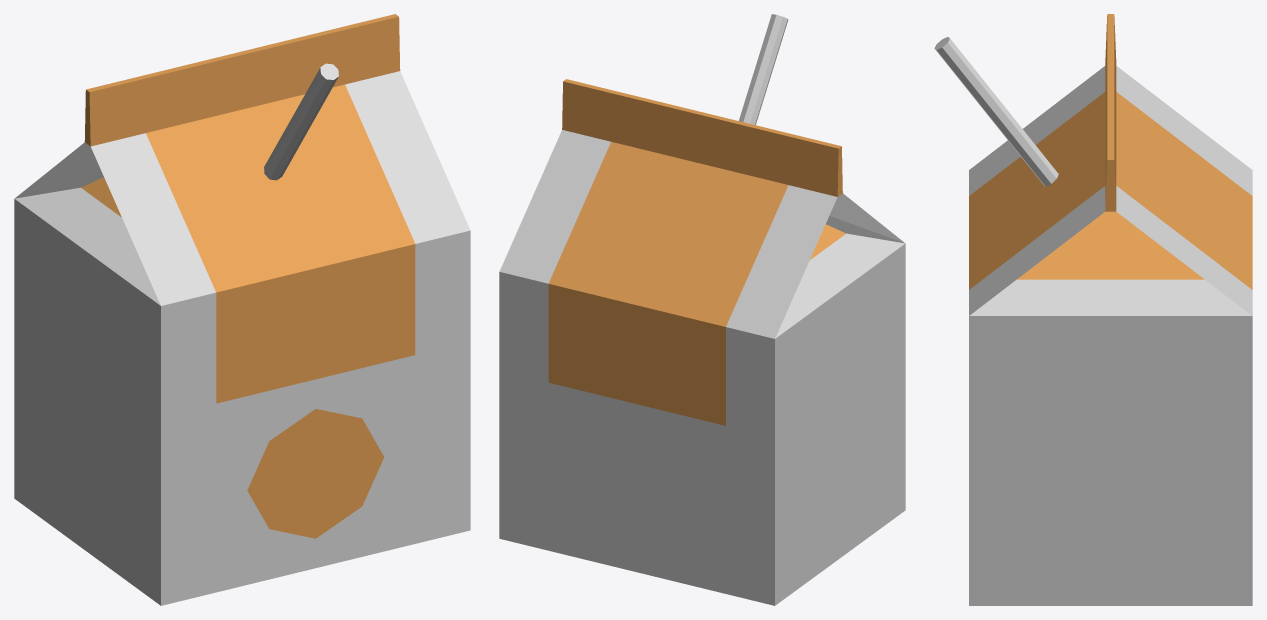
Rendered from box_orange.fbx.
3 views of the same model, side by side, from view 1: azimuth 30°, elevation 25°; view 2: azimuth 150°, elevation 25°; view 3: azimuth 270°, elevation 25° (orthographic). The views are drawn at different scales.
Visible parts, largest first — view 1: box_milk.001; view 2: box_milk.001; view 3: box_milk.001.
Part boxes in pixels (bbox=[...]): box_milk.001: bbox=[14, 14, 470, 605]; box_milk.001: bbox=[499, 14, 905, 605]; box_milk.001: bbox=[934, 14, 1252, 605].
Bounding box in the file's own units: 103 × 162 × 94.58.
